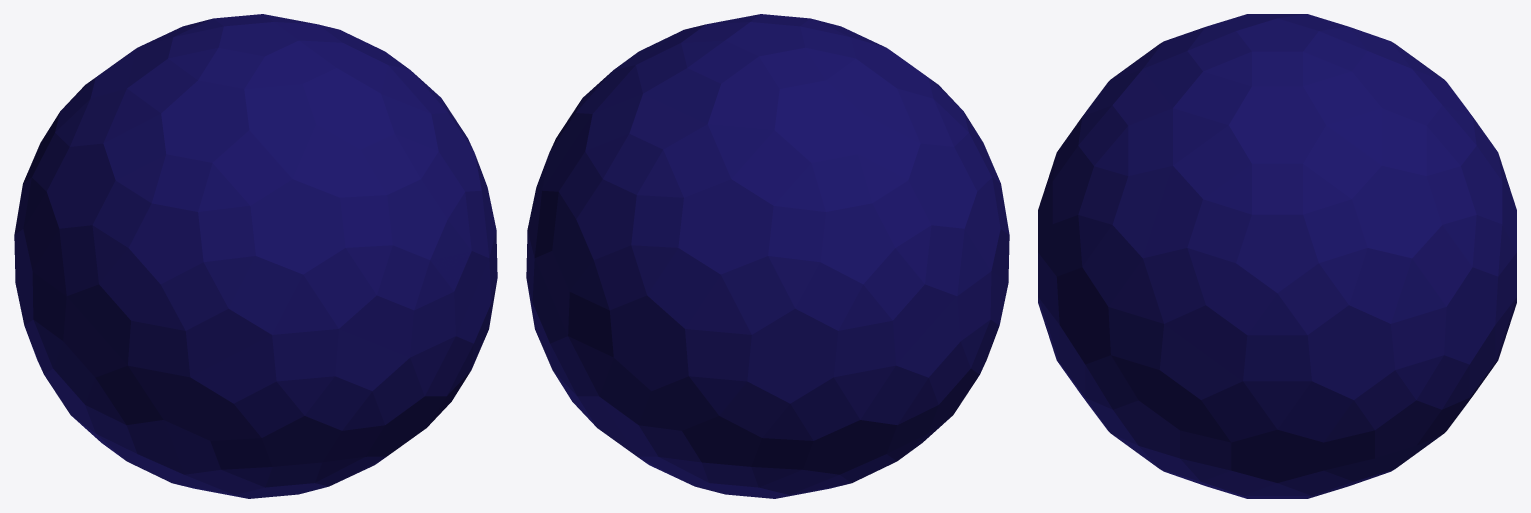
3 renders of one model, left to right at view 1: azimuth 30°, elevation 25°; view 2: azimuth 150°, elevation 25°; view 3: azimuth 270°, elevation 25°, orthographic.
Visible parts, largest first — view 1: Icosphere; view 2: Icosphere; view 3: Icosphere.
Boxes of the visible parts, box(x1,y1,x2,y2) form: Icosphere: box(14, 14, 497, 498); Icosphere: box(526, 14, 1009, 498); Icosphere: box(1038, 14, 1516, 498).
Bounding box in the file's own units: 188 × 188 × 186.
